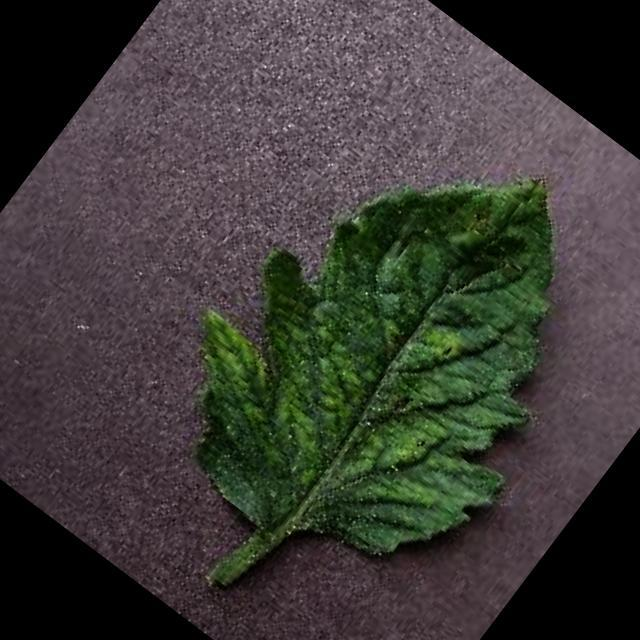Tomato mosaic virus leaf: (120, 69, 640, 635)
